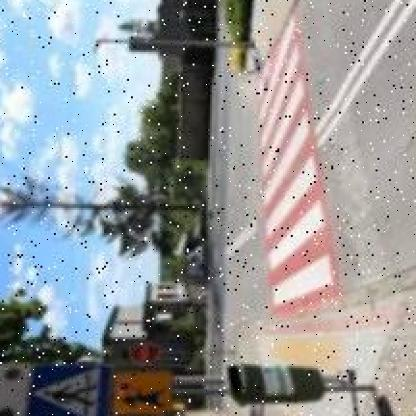Pedestrian Crossing: (32, 361, 109, 416)
